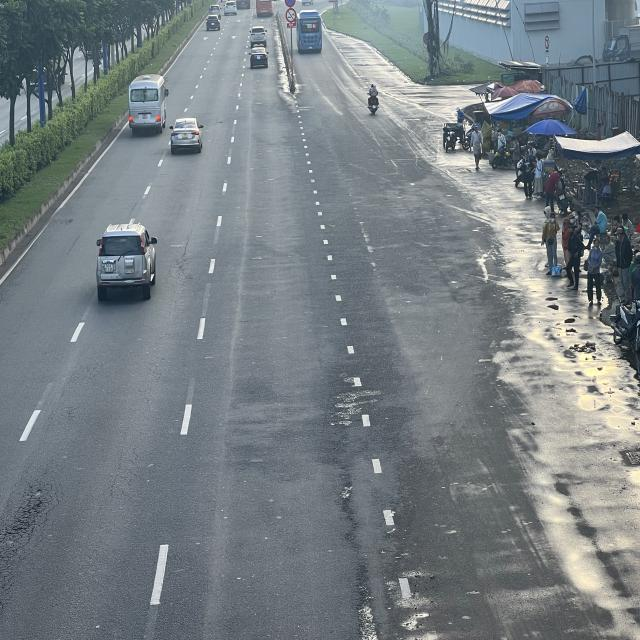car: (97, 222, 159, 296), (169, 118, 204, 154)
coach: (128, 72, 169, 132), (296, 8, 324, 54)
